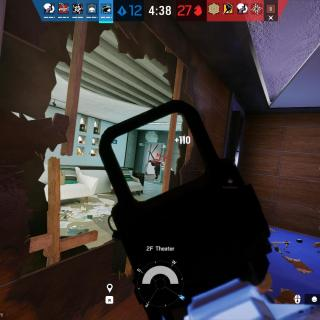Character: (149, 157, 161, 180)
Friend_label: (223, 178, 238, 190)
